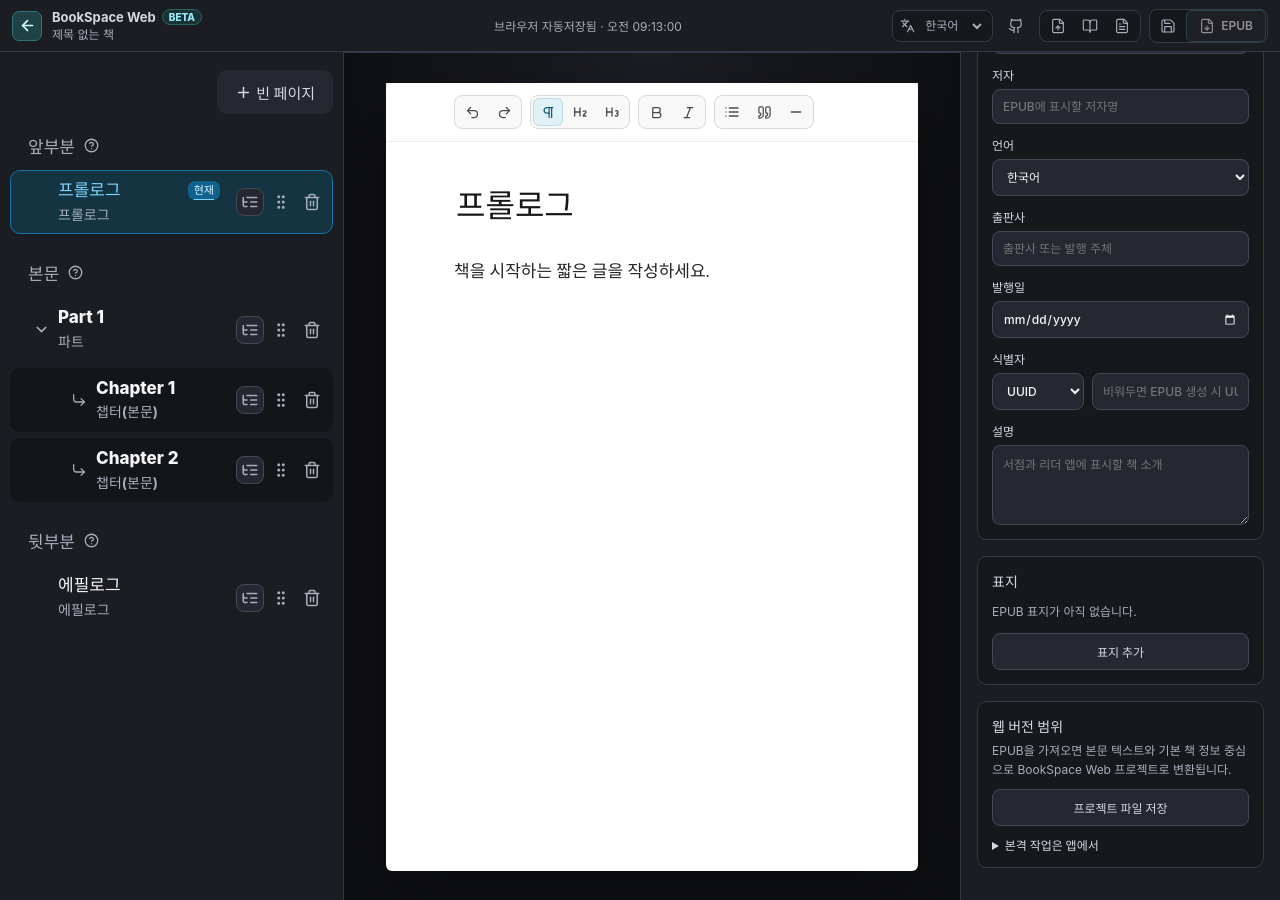
it: BookSpace Web editor › saves a project from the web scope panel for continuing in the app
(page scrolled)
Click the button "프로젝트 파일 저장".
click(1120, 808)  # box [992,789,1249,826]
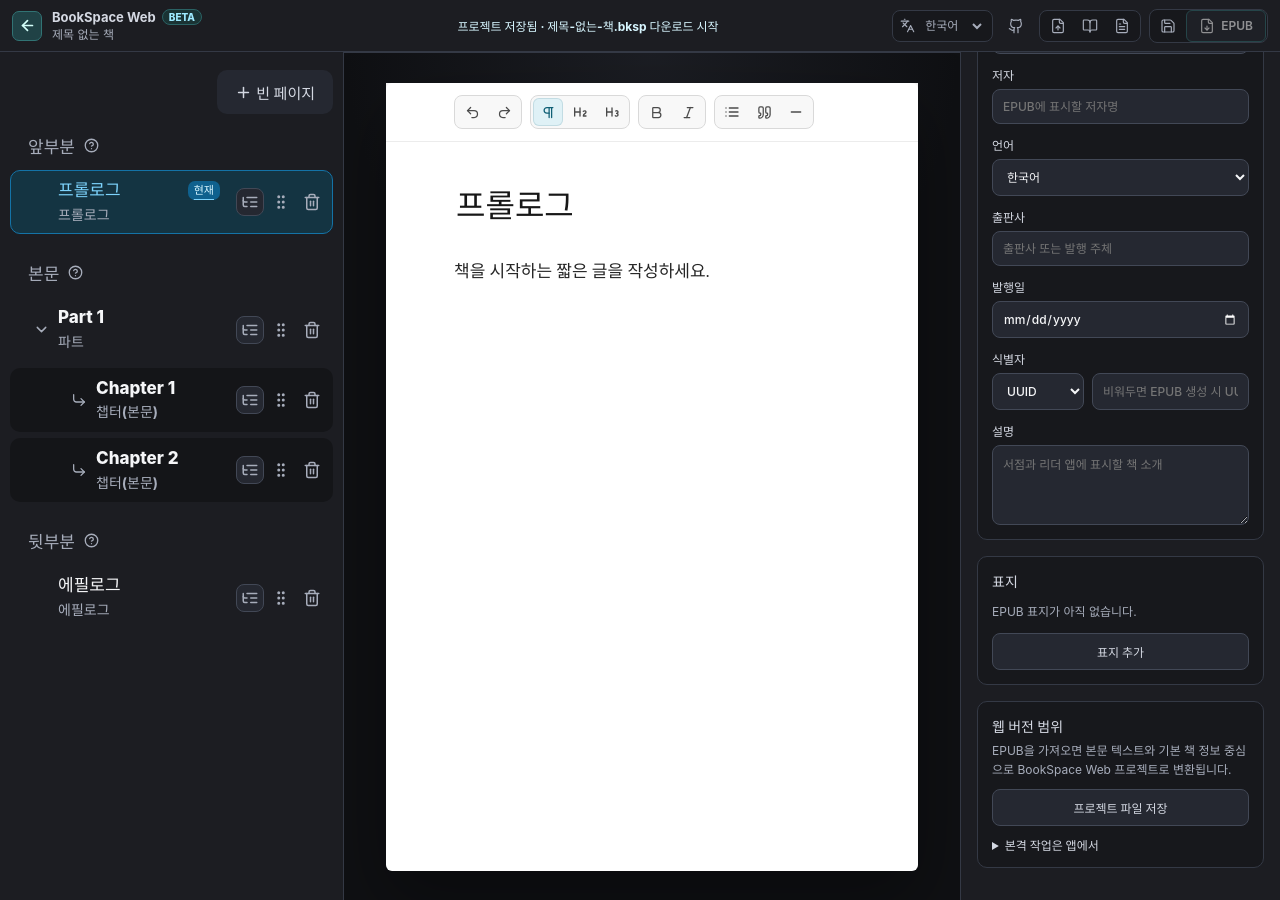
Expected: the message shows "프로젝트 저장됨", [458,19,718,34]
Expected: the message shows ".bksp", [458,19,718,34]
